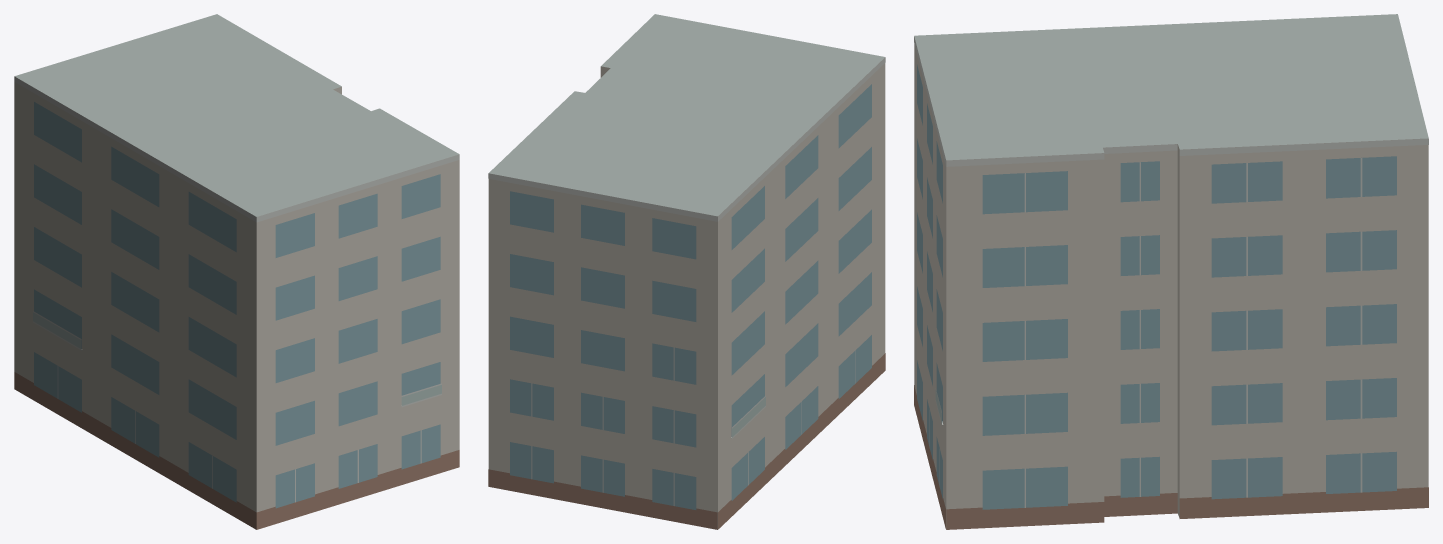
The model's file is survey-upis-32872954.glb.
3 views of the same model, side by side, from view 1: azimuth 30°, elevation 25°; view 2: azimuth 150°, elevation 25°; view 3: azimuth 270°, elevation 25° (orthographic). The views are drawn at different scales.
Parts seen in each view (by area): view 1: survey-upis-32872954.tmp; view 2: survey-upis-32872954.tmp; view 3: survey-upis-32872954.tmp.
Boxes of the visible parts, <box> form: survey-upis-32872954.tmp: <box>14,14,459,529</box>; survey-upis-32872954.tmp: <box>488,14,885,529</box>; survey-upis-32872954.tmp: <box>914,14,1428,529</box>.
Bounding box in the file's own units: 11.82 × 13.9 × 17.56.
